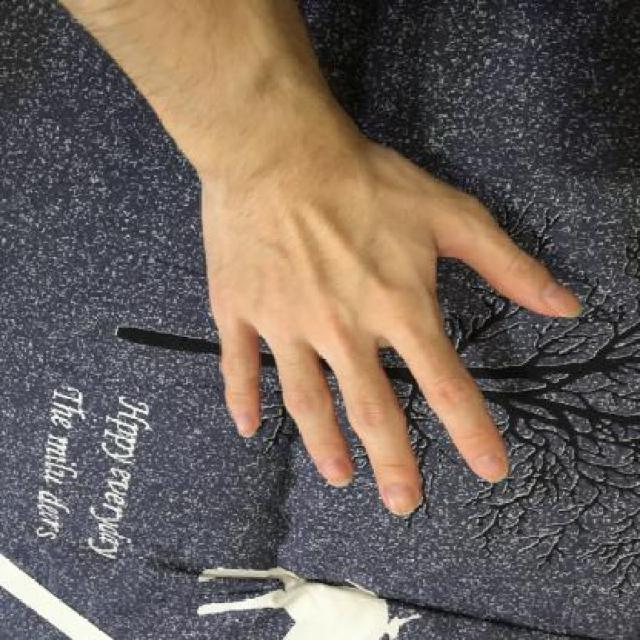bare_hand: (182, 127, 593, 526)
